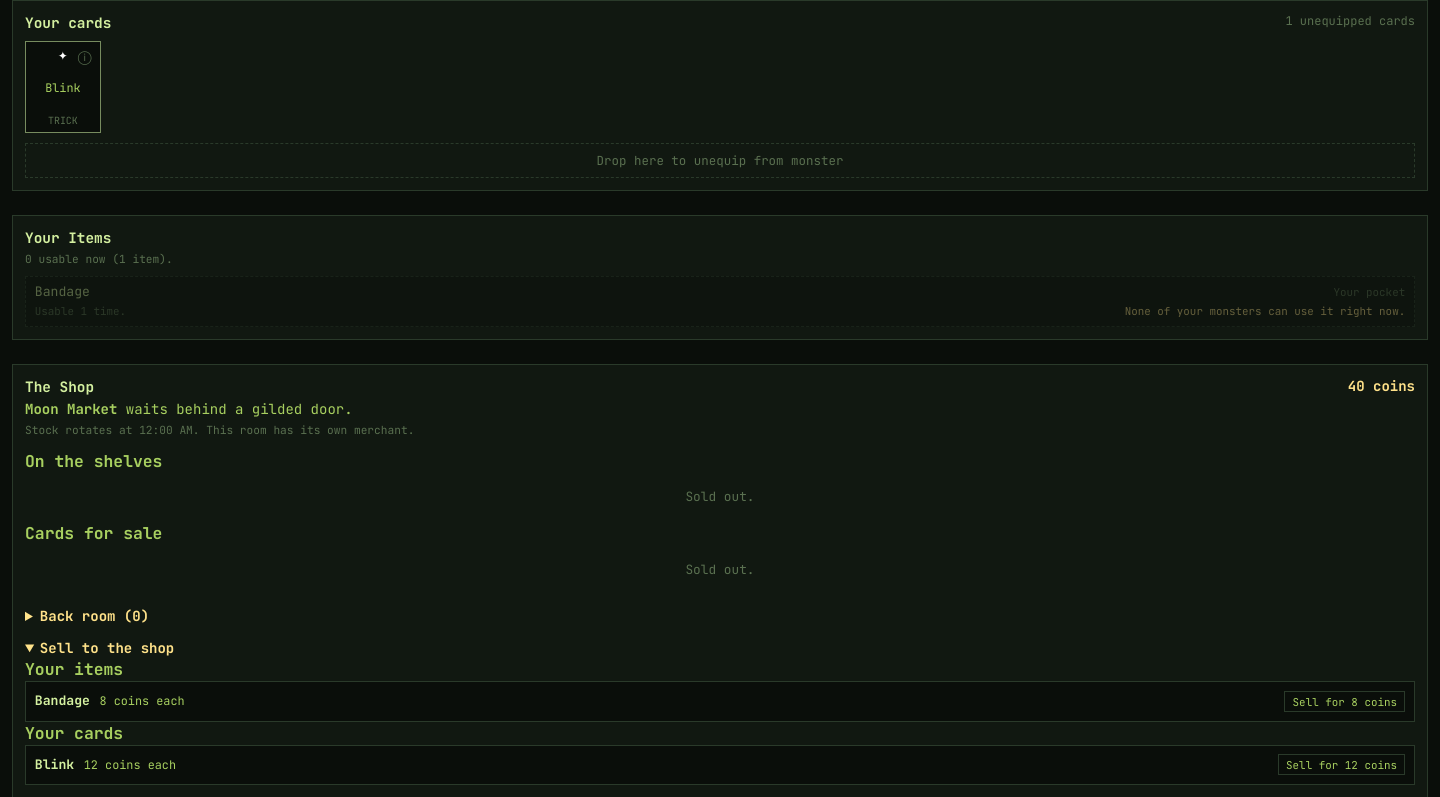
Scenario: WorkshopPanel: selling to the shop › sells the item once confirmed, and reports the result
(page scrolled)
Click the button "Sell for 8 coins" at (1345, 702), box top-left (1284, 691), bottom-right (1405, 712)
(page scrolled)
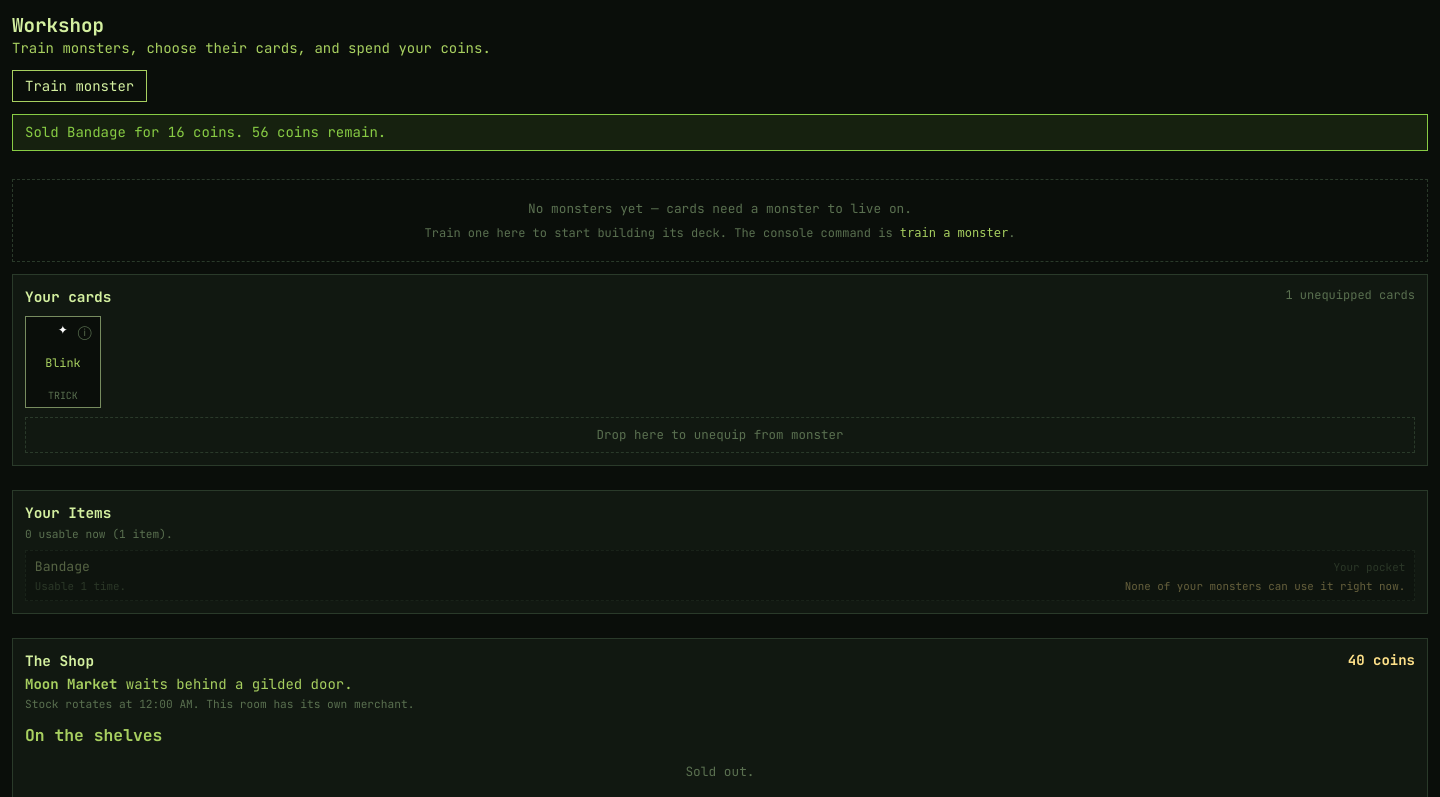
Check: the text "Sold Bandage for 16 coins. 56 coins remain." is shown, box top-left (12, 114), bottom-right (1428, 151)
